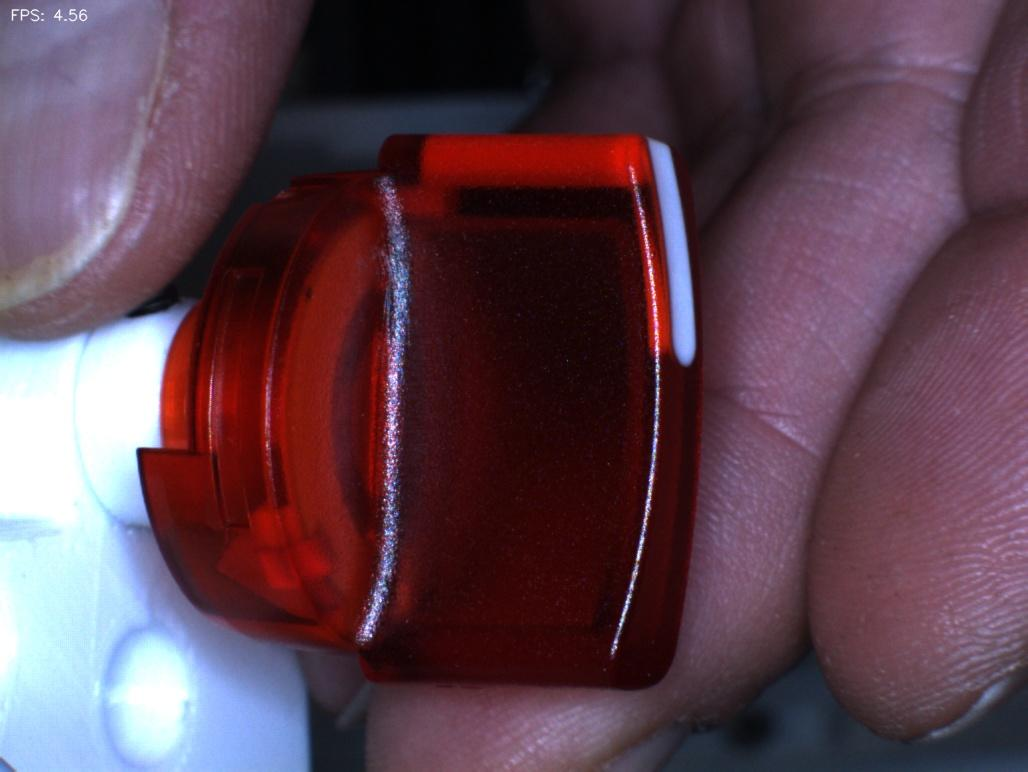Givrage: (344, 226, 408, 345)
